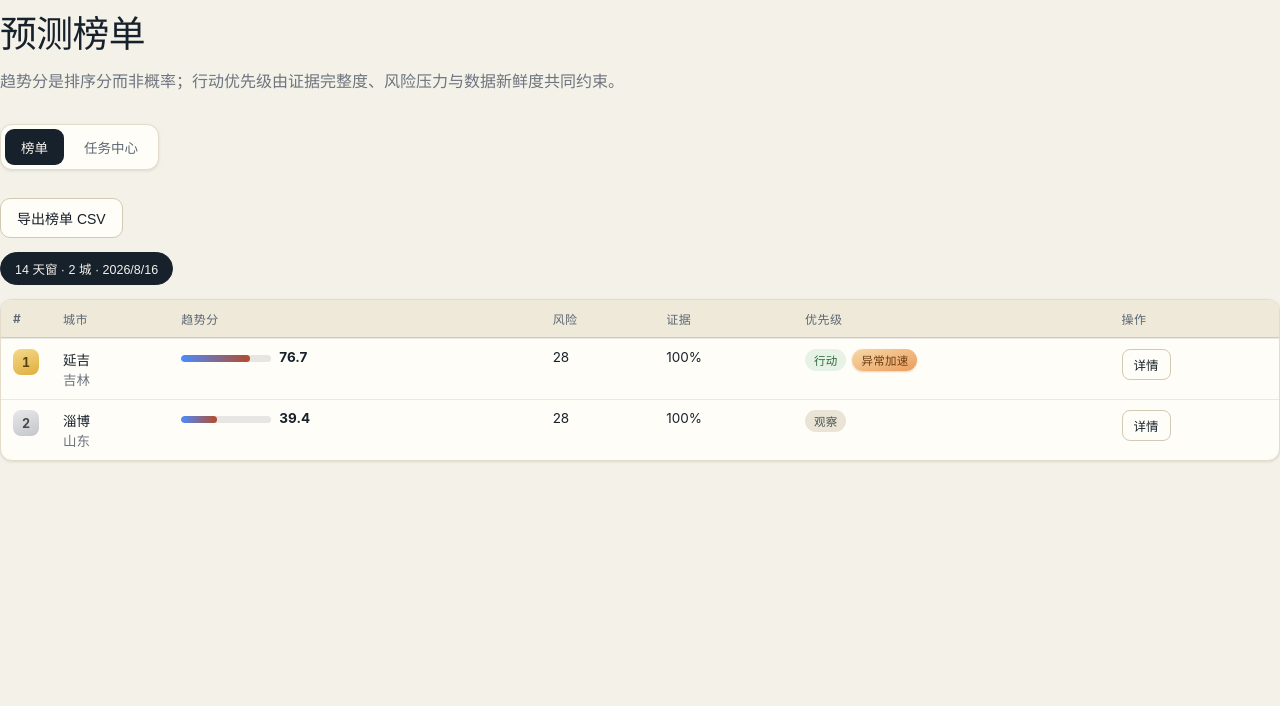
Test: city detail shows factor breakdown and series
Step 1. Click the button "详情" in the row of "延吉" → (1146, 365), box [1122,349,1170,380]
(page scrolled)
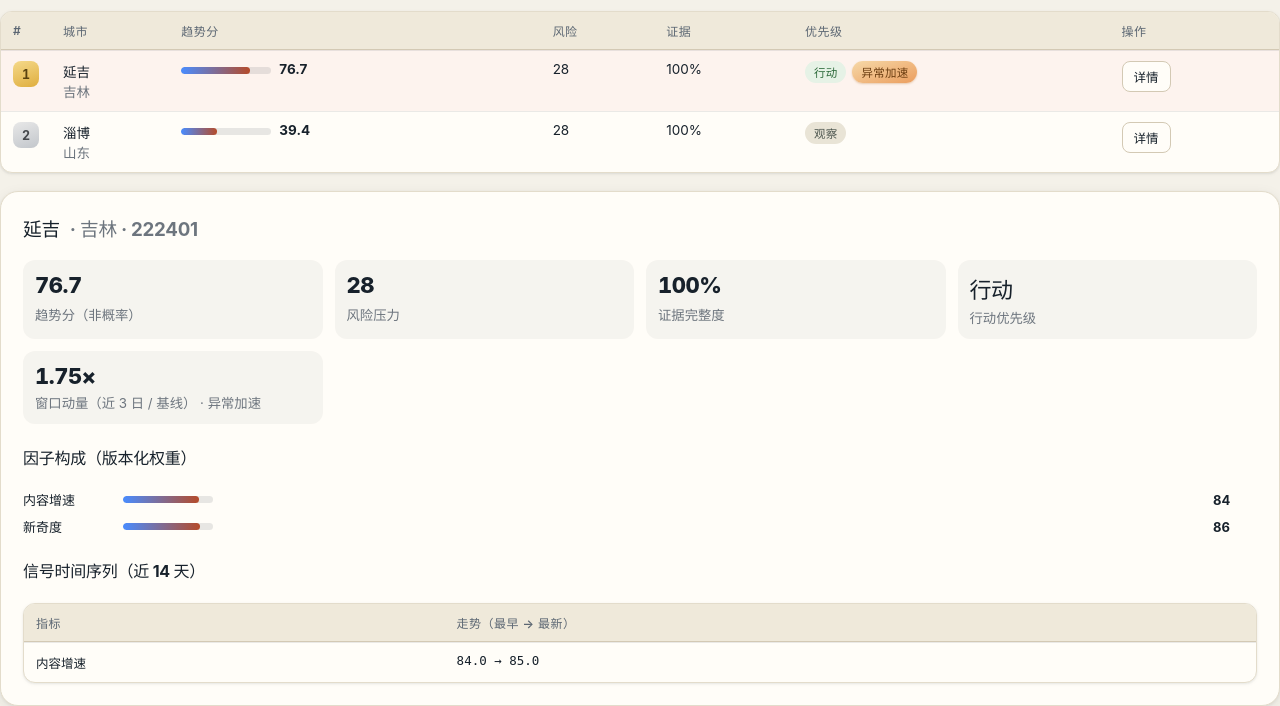
Check: the text "趋势分（非概率）" is shown, box [35,307,142,323]
Check: the text "内容增速" is shown, box [23,492,75,508]
Check: the text "84.0 → 85.0" is shown, box [445,642,1256,682]
